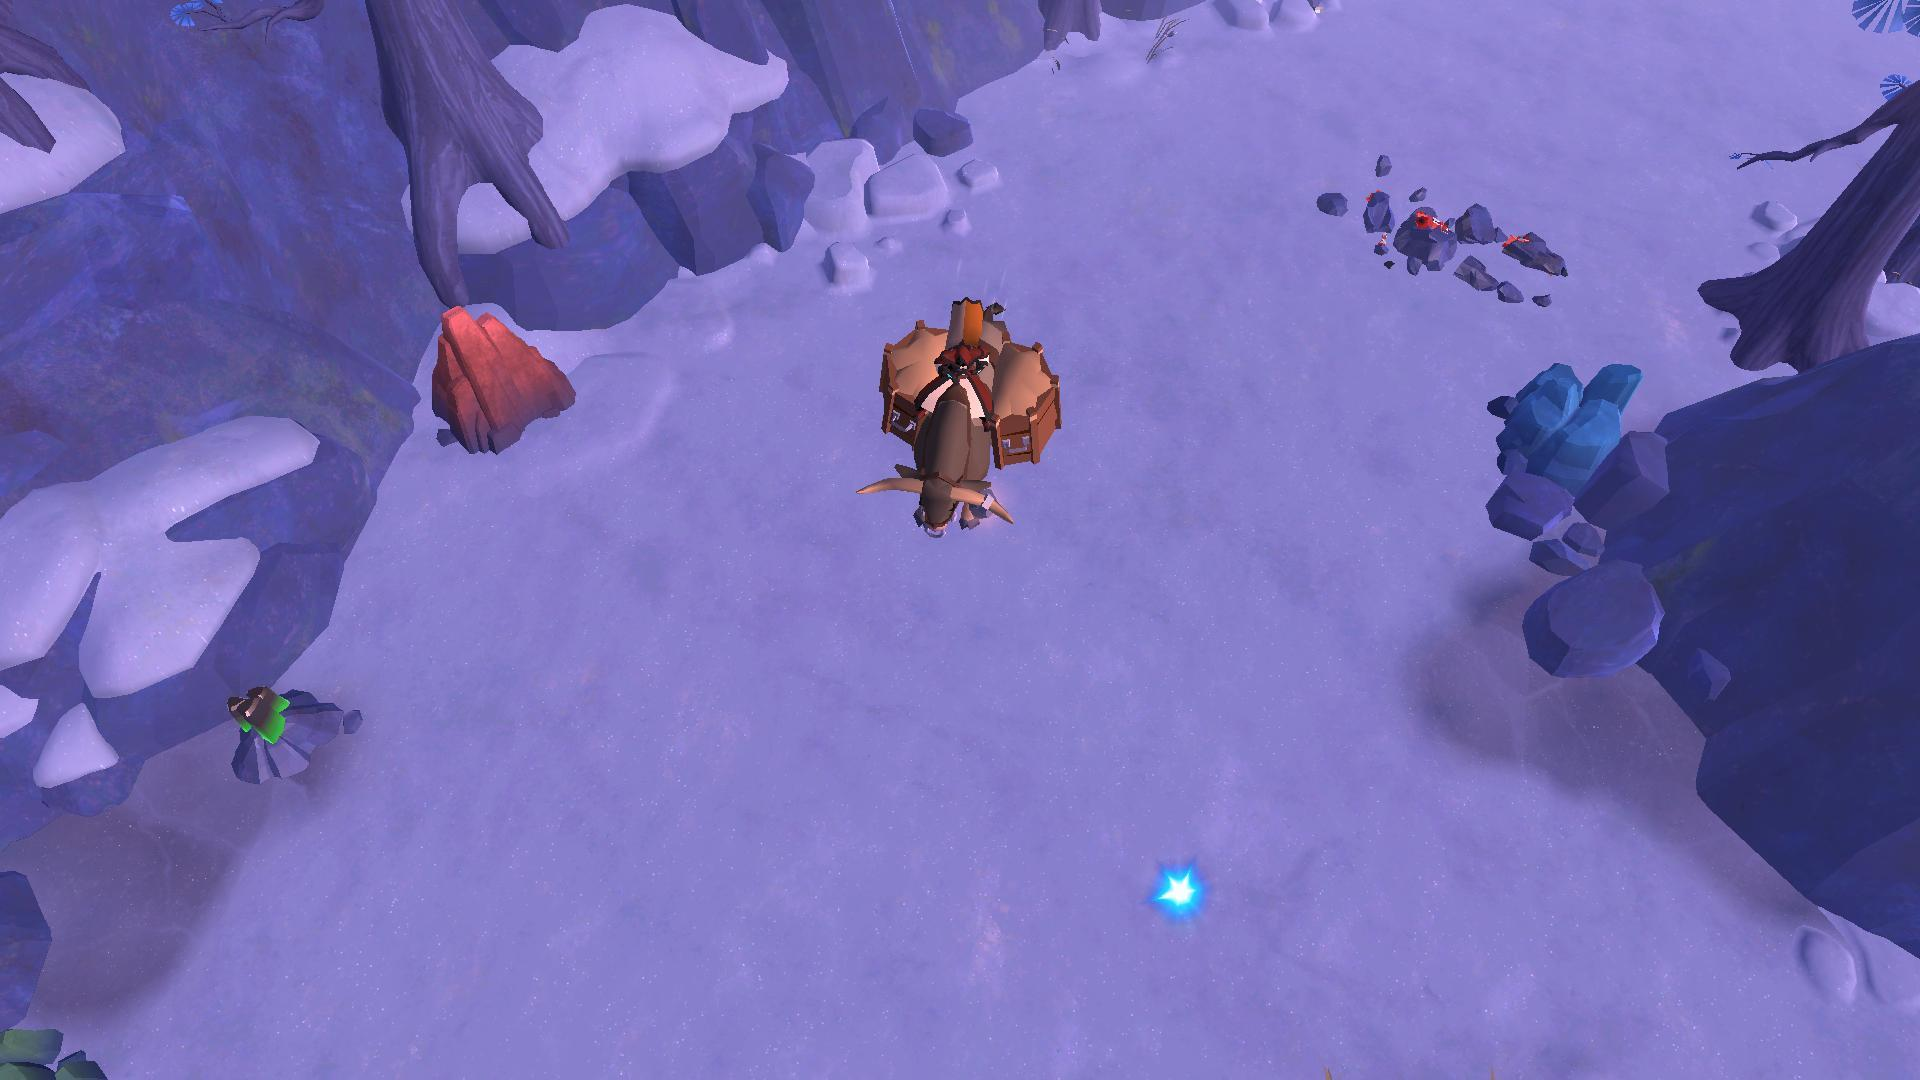ore_t3: (228, 684, 291, 745)
rock_t4: (1490, 348, 1640, 491)
rock_t5: (421, 299, 580, 459)
